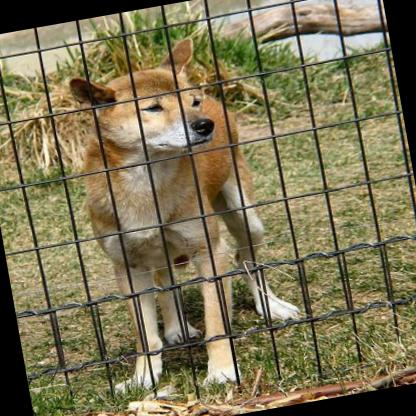dingo: (42, 25, 310, 404)
